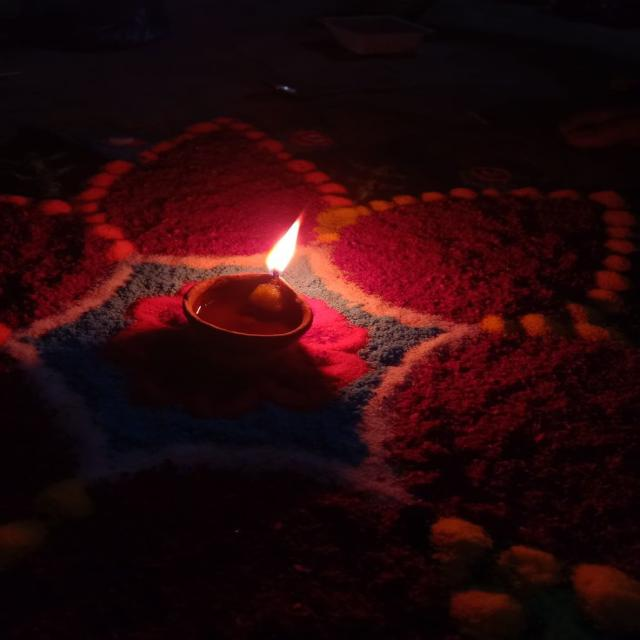fire: (265, 210, 303, 275)
